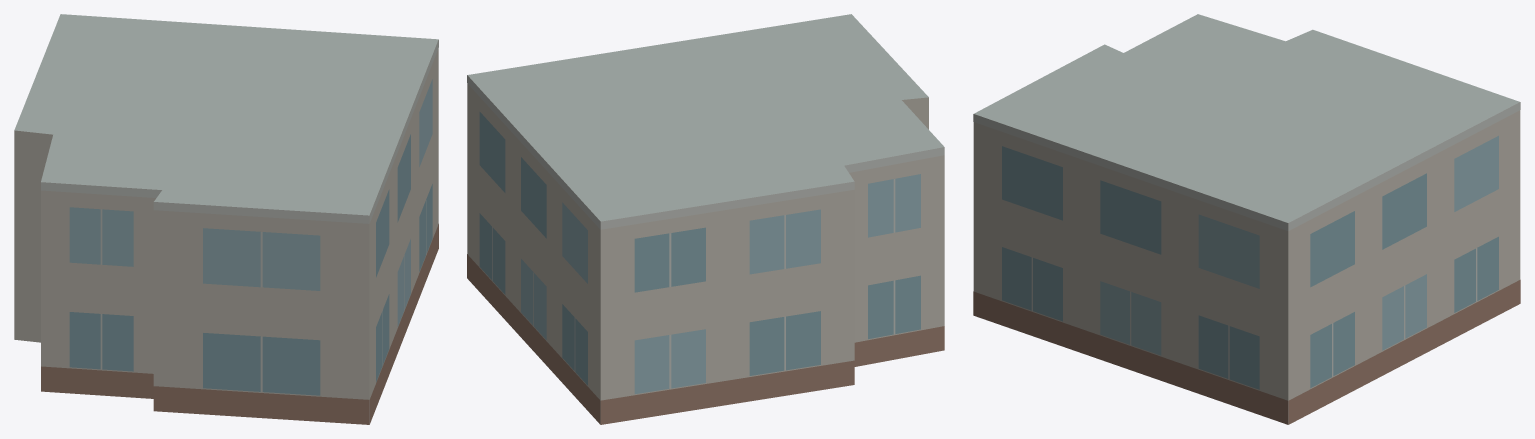
File: survey-upis-32500145.glb
3 renders of one model, left to right at view 1: azimuth 30°, elevation 25°; view 2: azimuth 150°, elevation 25°; view 3: azimuth 270°, elevation 25°, orthographic. The views are drawn at different scales.
Parts seen in each view (by area): view 1: survey-upis-32500145.tmp; view 2: survey-upis-32500145.tmp; view 3: survey-upis-32500145.tmp.
Boxes of the visible parts, bbox=[...] form: survey-upis-32500145.tmp: bbox=[14, 14, 438, 424]; survey-upis-32500145.tmp: bbox=[467, 14, 944, 424]; survey-upis-32500145.tmp: bbox=[973, 14, 1520, 424].
Size of the model in its own units: 13.57 by 6.1 by 14.99.
